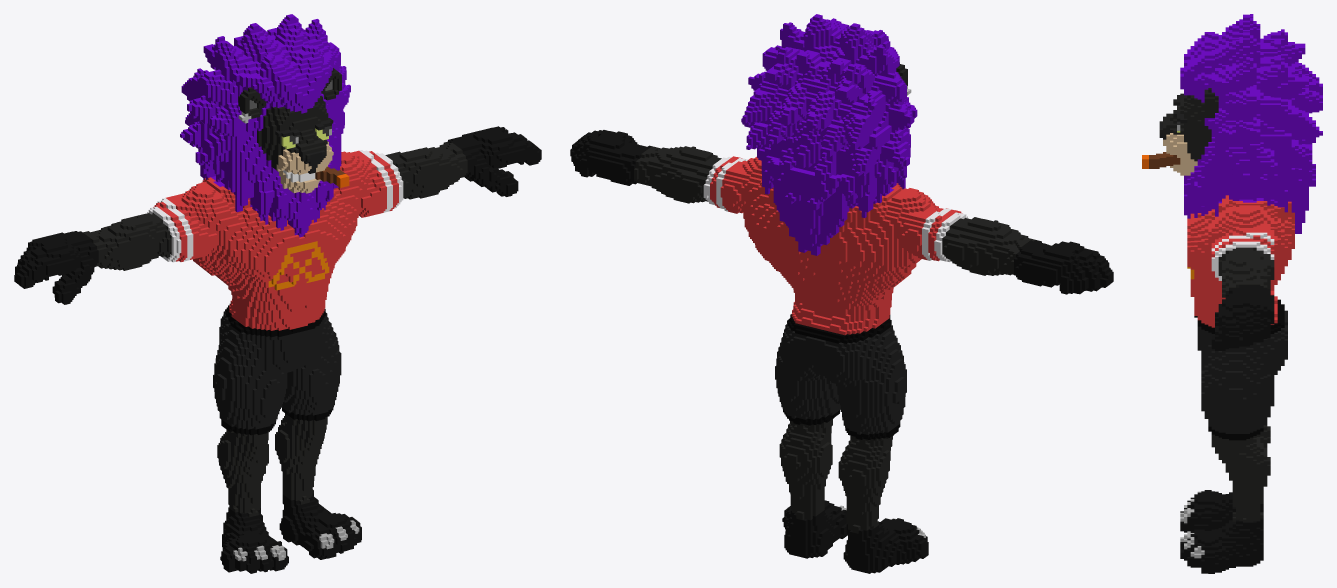
The model's file is 479-CaRdE9-E.glb.
3 views of the same model, side by side, from view 1: azimuth 30°, elevation 25°; view 2: azimuth 150°, elevation 25°; view 3: azimuth 270°, elevation 25° (orthographic). The views are drawn at different scales.
Parts seen in each view (by area): view 1: cigar; view 2: cigar; view 3: cigar.
Boxes of the visible parts, box(x1,y1,x2,y2) form: cigar: box(14, 14, 541, 573); cigar: box(570, 14, 1113, 573); cigar: box(1142, 14, 1322, 573).
Size of the model in its own units: 17.2 by 16.5 by 5.2.
Materials: 6 (6 with a texture image).
